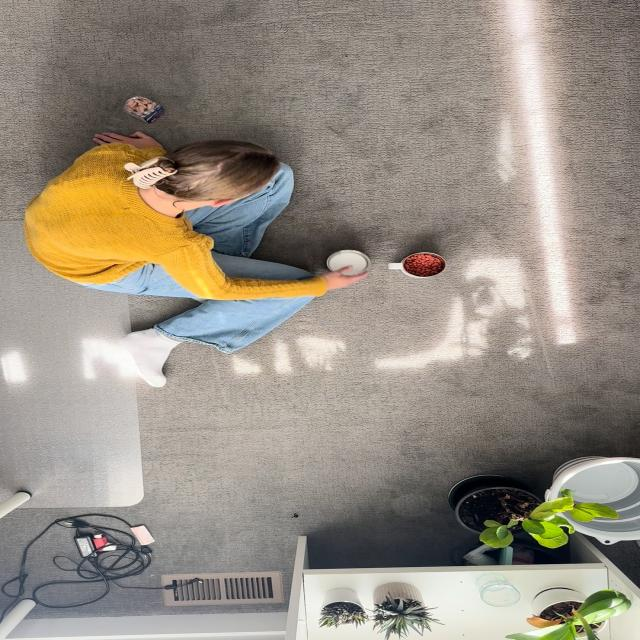IBC: (389, 252, 446, 278), (327, 250, 370, 276)
